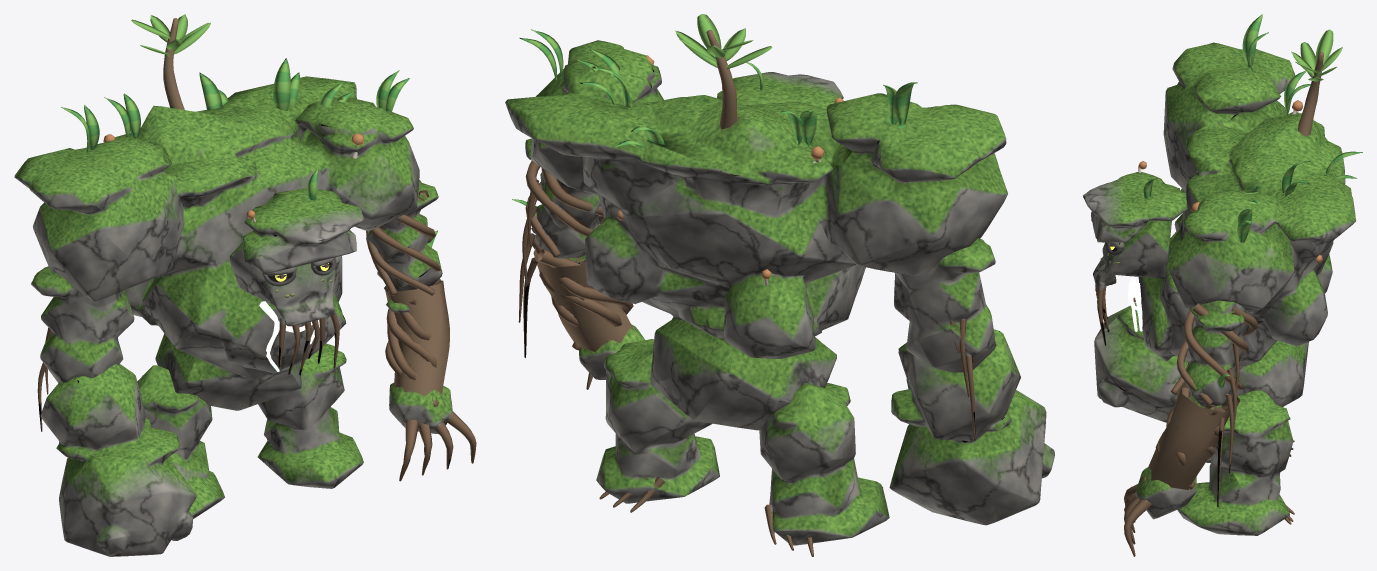
The model's file is MossGolem.fbx.
3 views of the same model, side by side, from view 1: azimuth 30°, elevation 25°; view 2: azimuth 150°, elevation 25°; view 3: azimuth 270°, elevation 25° (orthographic). The views are drawn at different scales.
Visible parts, largest first — view 1: MossGolem_Body, MossGolem_ArmR2, MossGolem_Head, MossGolem_ArmL2, MossGolem_LegL, MossGolem_ArmR, MossGolem_LegR, MossGolem_ArmL, MossGolem_Body_Glow_89ffb3; view 2: MossGolem_Body, MossGolem_ArmR2, MossGolem_LegR, MossGolem_LegL, MossGolem_ArmR, MossGolem_ArmL2, MossGolem_ArmL, MossGolem_Head; view 3: MossGolem_Body, MossGolem_LegL, MossGolem_Head, MossGolem_ArmL2, MossGolem_ArmL, MossGolem_ArmR2, MossGolem_Body_Glow_89ffb3.
Part boxes in pixels (box(x1,y1,x2,y2)): MossGolem_Body: box(14, 14, 419, 410); MossGolem_ArmR2: box(40, 364, 196, 556); MossGolem_Head: box(229, 168, 363, 375); MossGolem_ArmL2: box(384, 230, 476, 481); MossGolem_LegL: box(257, 343, 363, 488); MossGolem_ArmR: box(31, 266, 134, 431); MossGolem_LegR: box(137, 365, 224, 518); MossGolem_ArmL: box(366, 180, 442, 295); MossGolem_Body_Glow_89ffb3: box(259, 301, 319, 371); MossGolem_Body: box(505, 14, 1007, 430); MossGolem_ArmR2: box(889, 329, 1054, 525); MossGolem_LegR: box(759, 382, 889, 556); MossGolem_LegL: box(596, 339, 719, 512); MossGolem_ArmR: box(894, 238, 995, 441); MossGolem_ArmL2: box(512, 199, 644, 389); MossGolem_ArmL: box(518, 138, 604, 357); MossGolem_Head: box(717, 62, 843, 108); MossGolem_Body: box(1138, 14, 1362, 406); MossGolem_LegL: box(1177, 390, 1294, 535); MossGolem_Head: box(1083, 161, 1187, 345); MossGolem_ArmL2: box(1124, 374, 1240, 556); MossGolem_ArmL: box(1171, 300, 1257, 506); MossGolem_ArmR2: box(1094, 232, 1187, 422); MossGolem_Body_Glow_89ffb3: box(1128, 276, 1142, 331).
Bounding box in the file's own units: 2.66 × 2.79 × 1.63.
Materials: 5 (1 with a texture image).
